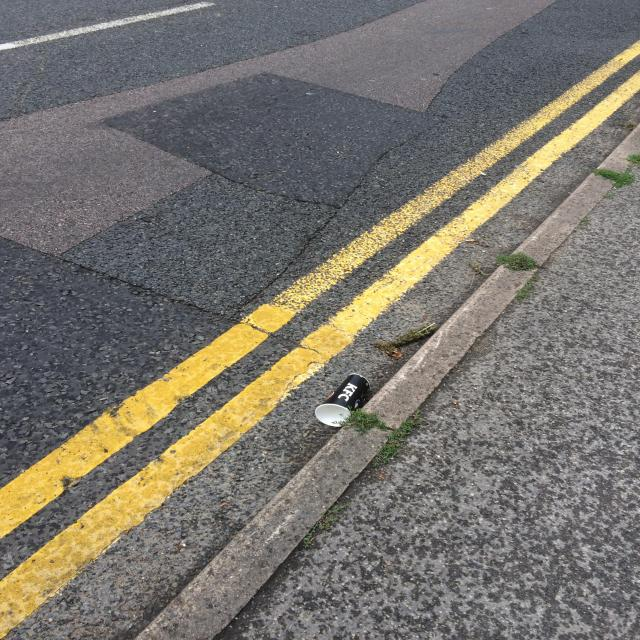Cigarette: (464, 240, 474, 242)
Paper cup: (315, 374, 370, 427)
